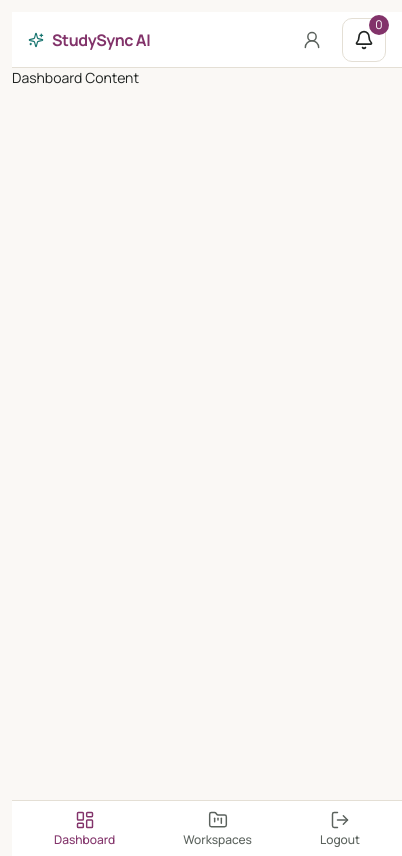
Test: Layouts (NFR-12) › AppShell › TC-PROF-01: opens the profile route from the mobile header control
This screenshot has width=402, height=856.
Click the button named "Account menu".
click(312, 40)  # box [290,18,334,62]
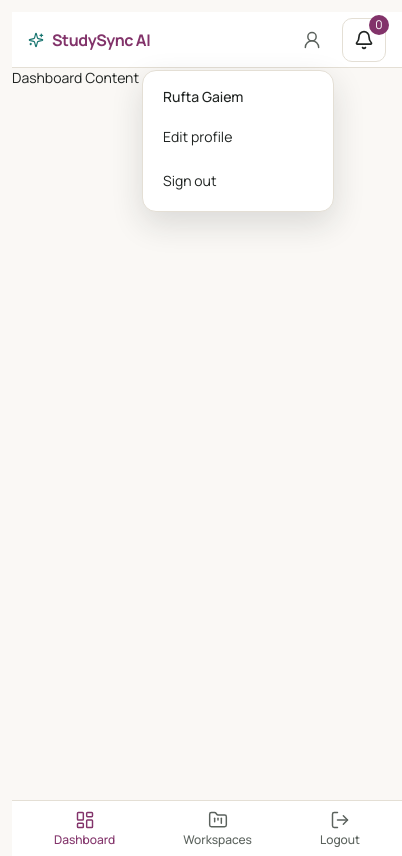
Click the button "Edit profile".
click(238, 136)  # box [151,114,325,158]
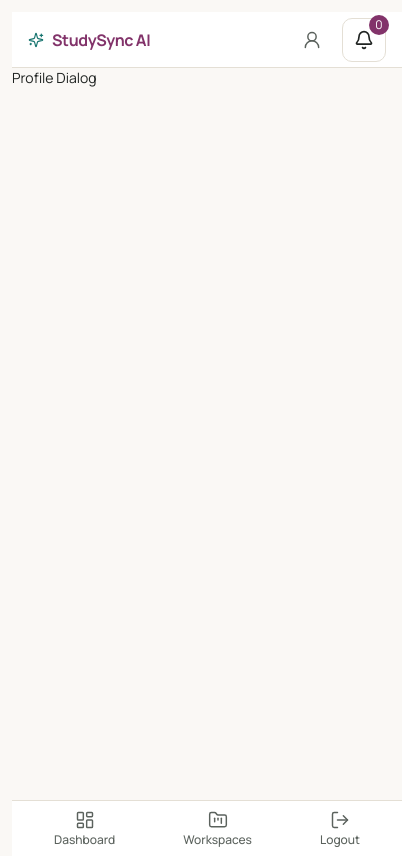
Check: the text "Profile Dialog" is shown, box [12,68,97,87]
